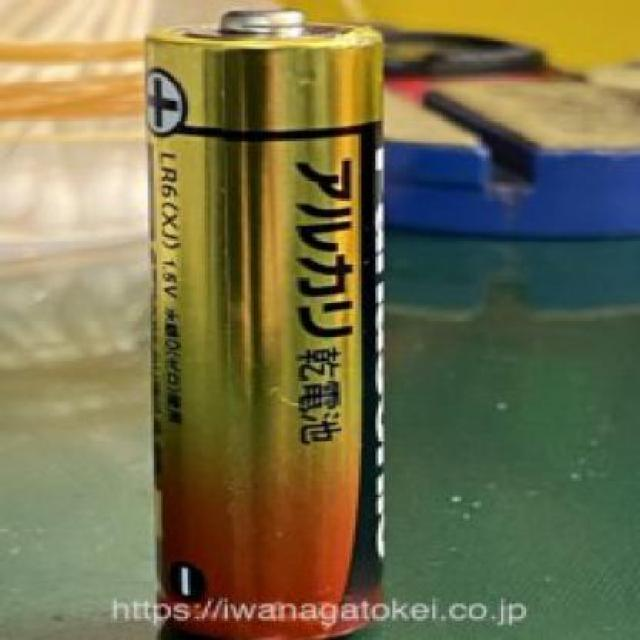hazardous waste: (122, 8, 404, 636)
